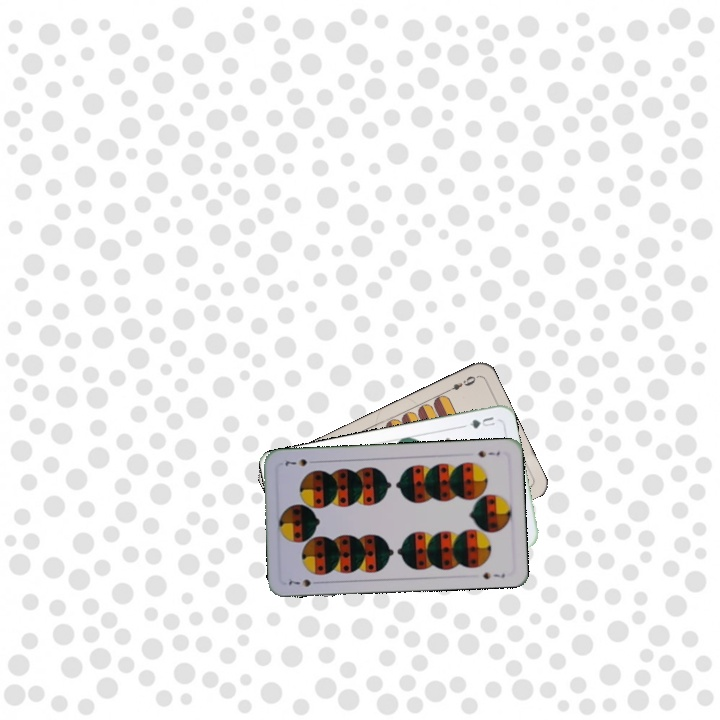E9: (442, 372, 478, 395)
GU: (459, 412, 498, 431)
S7: (284, 574, 323, 589), (474, 447, 502, 460)
